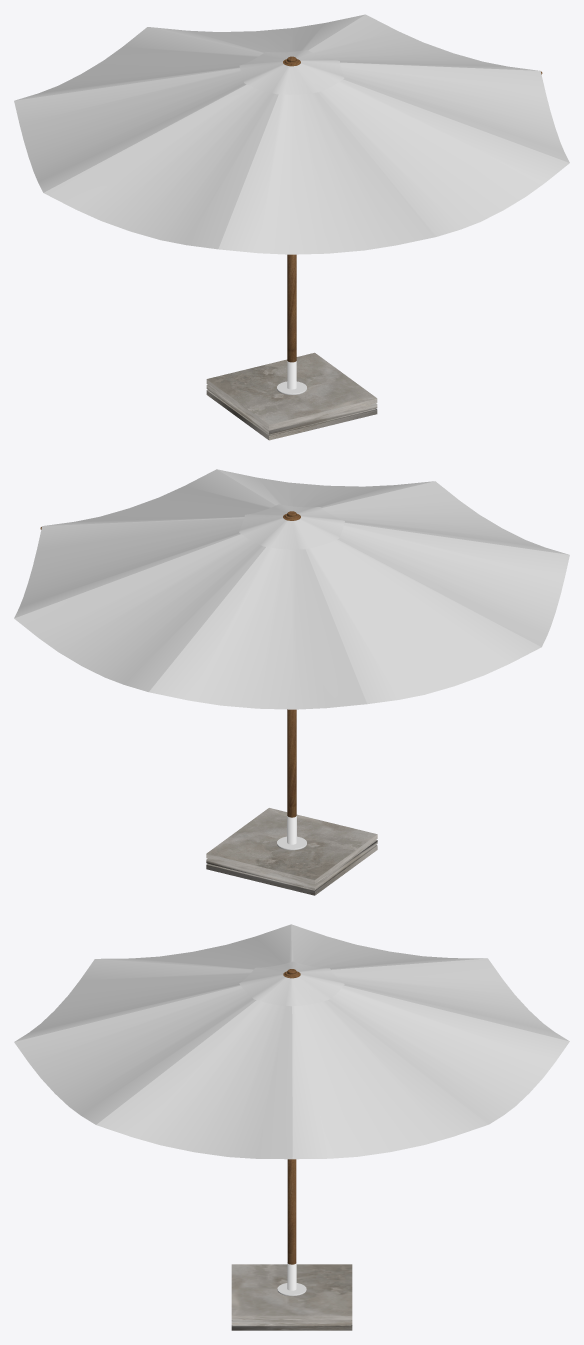
The model's file is Umbrella.fbx.
3 renders of one model, top to bottom at view 1: azimuth 30°, elevation 25°; view 2: azimuth 150°, elevation 25°; view 3: azimuth 270°, elevation 25°, orthographic. The views are drawn at different scales.
Parts seen in each view (by area): view 1: base; view 2: base; view 3: base.
Boxes of the visible parts, x1=… form: base: x1=14, y1=14, x2=569, y2=440; base: x1=14, y1=469, x2=569, y2=895; base: x1=14, y1=924, x2=569, y2=1330.
Bounding box in the file's own units: 710 × 470 × 708.
